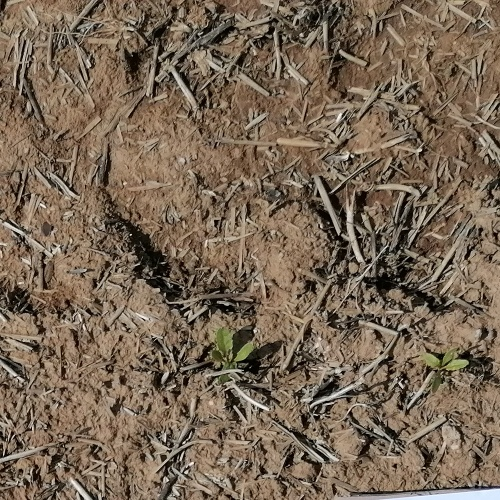beet: (210, 326, 255, 385), (421, 349, 471, 391)
